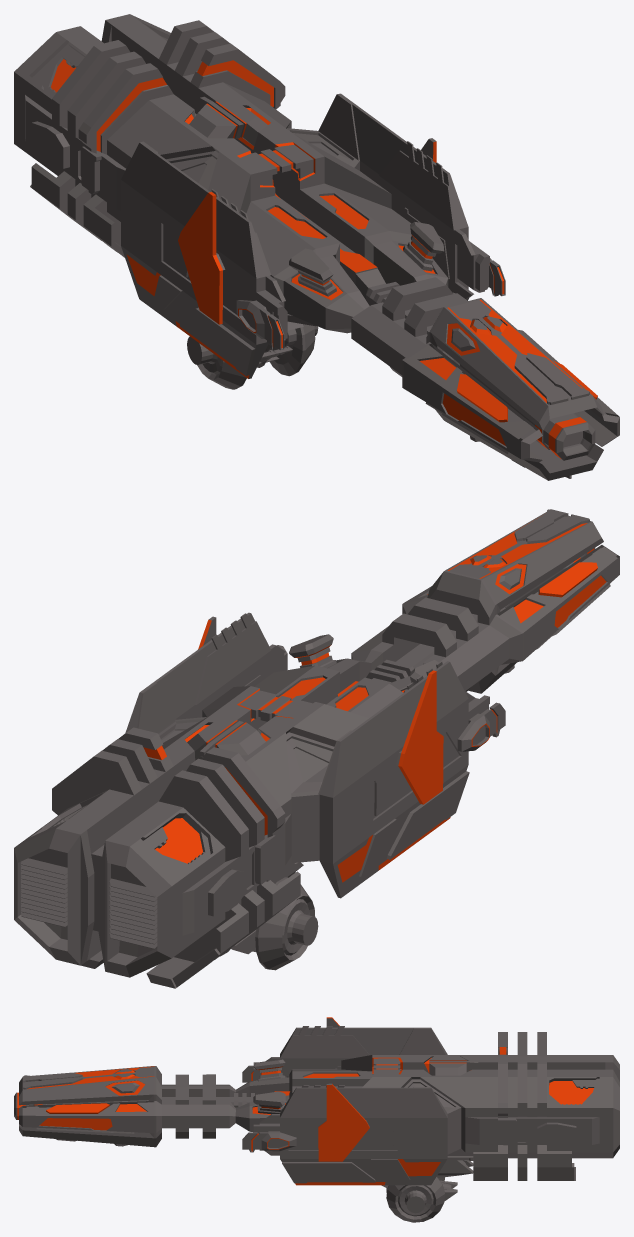
The model's file is Turret.fbx.
3 renders of one model, top to bottom at view 1: azimuth 30°, elevation 25°; view 2: azimuth 150°, elevation 25°; view 3: azimuth 270°, elevation 25°, orthographic. The views are drawn at different scales.
Parts seen in each view (by area): view 1: SC_ACU_Right_Mesh.017; view 2: SC_ACU_Right_Mesh.017; view 3: SC_ACU_Right_Mesh.017.
Boxes of the visible parts, <box> form: SC_ACU_Right_Mesh.017: <box>14,14,619,480</box>; SC_ACU_Right_Mesh.017: <box>14,509,619,988</box>; SC_ACU_Right_Mesh.017: <box>14,1017,619,1222</box>.
Bounding box in the file's own units: 633 × 694 × 2298.
